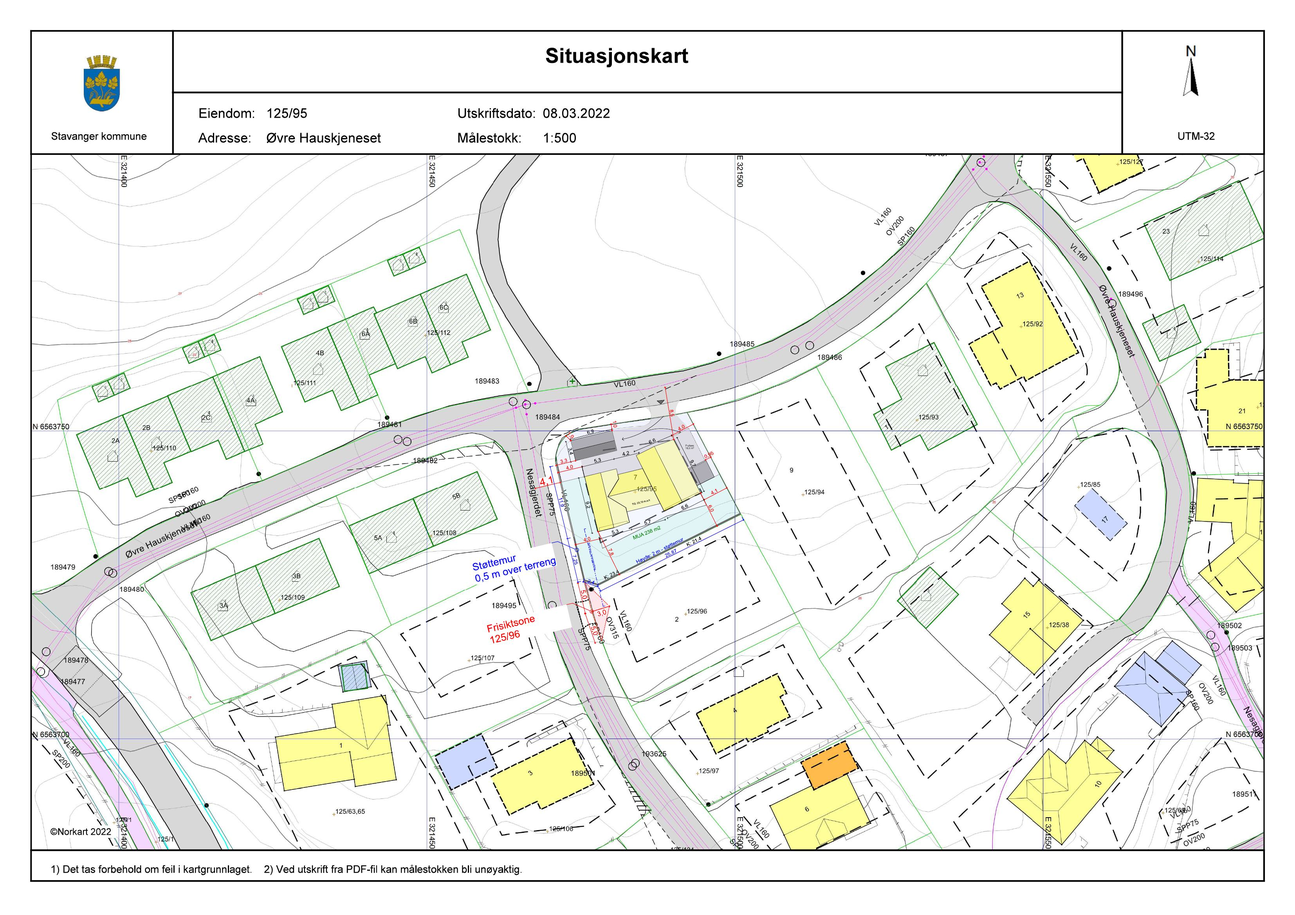situasjonskart: (33, 155, 1262, 848)
